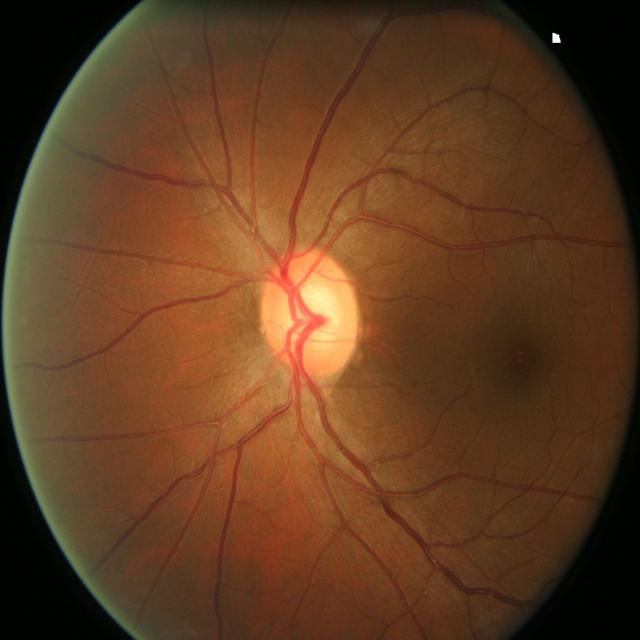OC: (282, 278, 342, 354)
OD: (258, 248, 358, 379)
